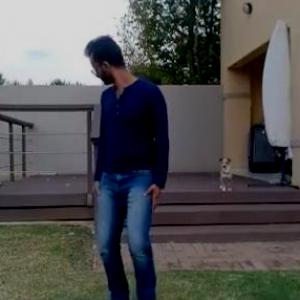follow: (64, 18, 171, 286)
